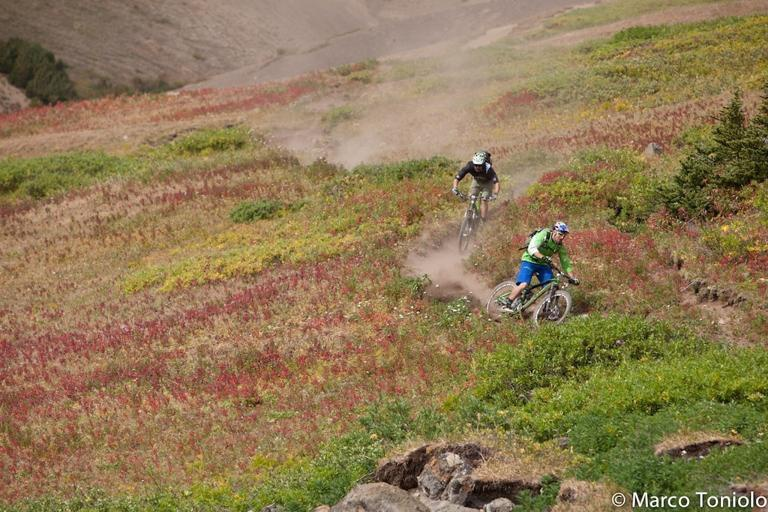non-vehicle: (485, 257, 579, 330), (453, 188, 495, 254)
